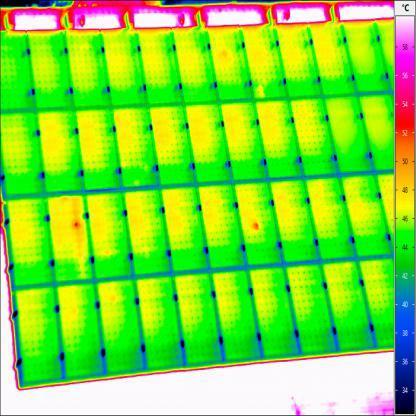anomaly: (70, 214, 83, 234), (249, 219, 266, 232)
